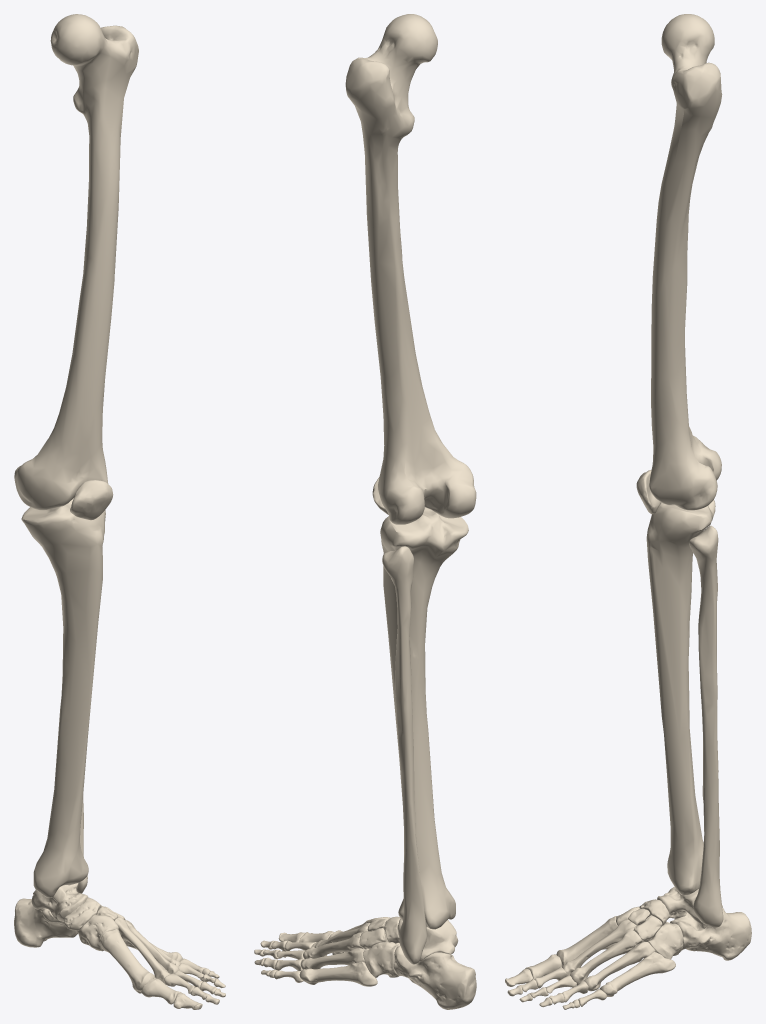
The model's file is skeletal.lower_limb_left.glb.
The picture shows the model from 3 angles, left to right: view 1: azimuth 30°, elevation 25°; view 2: azimuth 210°, elevation 25°; view 3: azimuth 270°, elevation 25°; orthographic projection. The views are drawn at different scales.
Parts seen in each view (by area): view 1: left_femur, left_tibia, left_calcaneus, left_patella, left_first_metatarsal_bone, left_talus, left_medial_cuneiform_bone, left_second_metatarsal_bone, navicular_bone_of_left_foot, proximal_phalanx_of_left_big_toe, left_third_metatarsal_bone; view 2: left_femur, left_tibia, left_fibula, left_calcaneus, left_fifth_metatarsal_bone, left_cuboid_bone, left_talus, left_fourth_metatarsal_bone, left_third_metatarsal_bone; view 3: left_femur, left_tibia, left_fibula, left_calcaneus, left_fifth_metatarsal_bone, left_third_metatarsal_bone, left_fourth_metatarsal_bone, left_cuboid_bone, left_second_metatarsal_bone, left_first_metatarsal_bone, left_talus.
Part boxes in pixels (x1,y1,x2,y2): left_femur: (14, 14, 138, 510); left_tibia: (21, 498, 105, 897); left_calcaneus: (14, 898, 78, 947); left_patella: (70, 480, 113, 520); left_first_metatarsal_bone: (100, 929, 155, 990); left_talus: (31, 883, 88, 921); left_medial_cuneiform_bone: (78, 914, 118, 951); left_second_metatarsal_bone: (114, 916, 170, 984); navicular_bone_of_left_foot: (64, 897, 101, 930); proximal_phalanx_of_left_big_toe: (141, 977, 181, 1004); left_third_metatarsal_bone: (124, 919, 179, 973); left_femur: (345, 14, 476, 524); left_tibia: (380, 507, 468, 929); left_fibula: (382, 546, 427, 964); left_calcaneus: (393, 945, 476, 1009); left_fifth_metatarsal_bone: (299, 961, 377, 986); left_cuboid_bone: (363, 941, 399, 977); left_talus: (398, 919, 458, 963); left_fourth_metatarsal_bone: (301, 948, 365, 969); left_third_metatarsal_bone: (303, 932, 368, 958); left_femur: (649, 14, 722, 510); left_tibia: (646, 500, 715, 895); left_fibula: (689, 525, 723, 927); left_calcaneus: (670, 908, 751, 960); left_fifth_metatarsal_bone: (599, 952, 675, 996); left_third_metatarsal_bone: (570, 930, 642, 985); left_fourth_metatarsal_bone: (584, 941, 655, 991); left_cuboid_bone: (648, 922, 683, 959); left_second_metatarsal_bone: (562, 919, 636, 976); left_first_metatarsal_bone: (556, 916, 617, 966); left_talus: (657, 887, 722, 928).
Size of the model in its own units: 0.1376 by 0.9048 by 0.2122.
